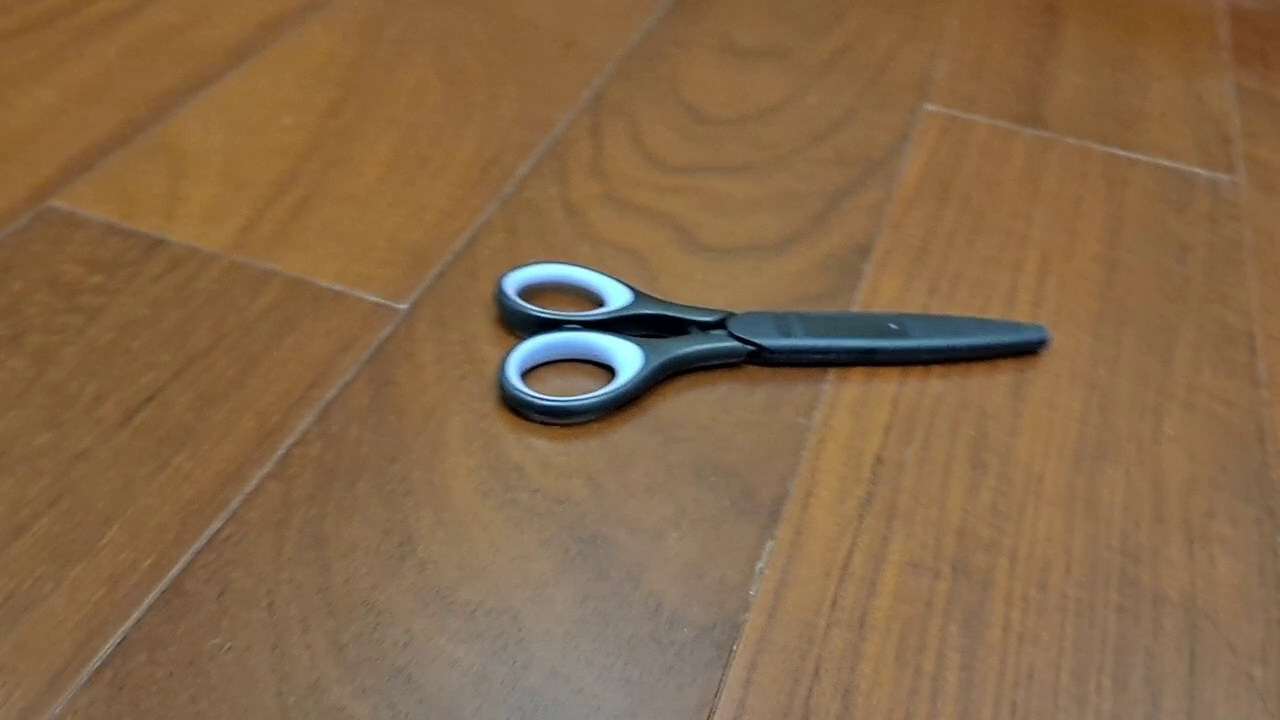scissors: (489, 259, 1053, 429)
